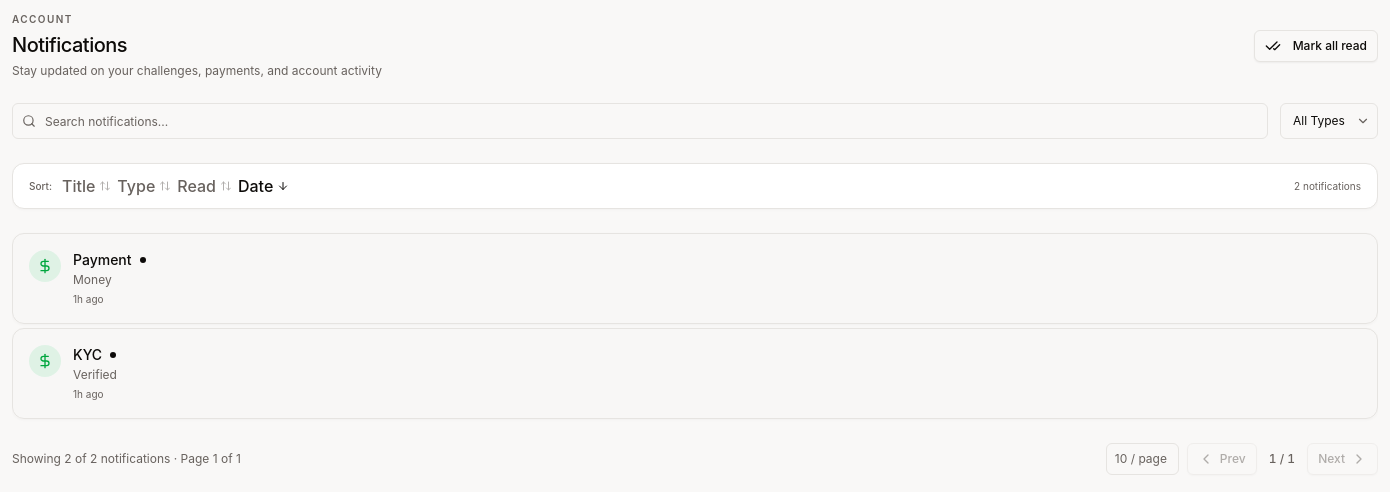
it: Notifications Page › Search › shows all when search is cleared
Type "payment" into the field with placeholder "Search notifications..." at (640, 121), box [12,103,1268,139]
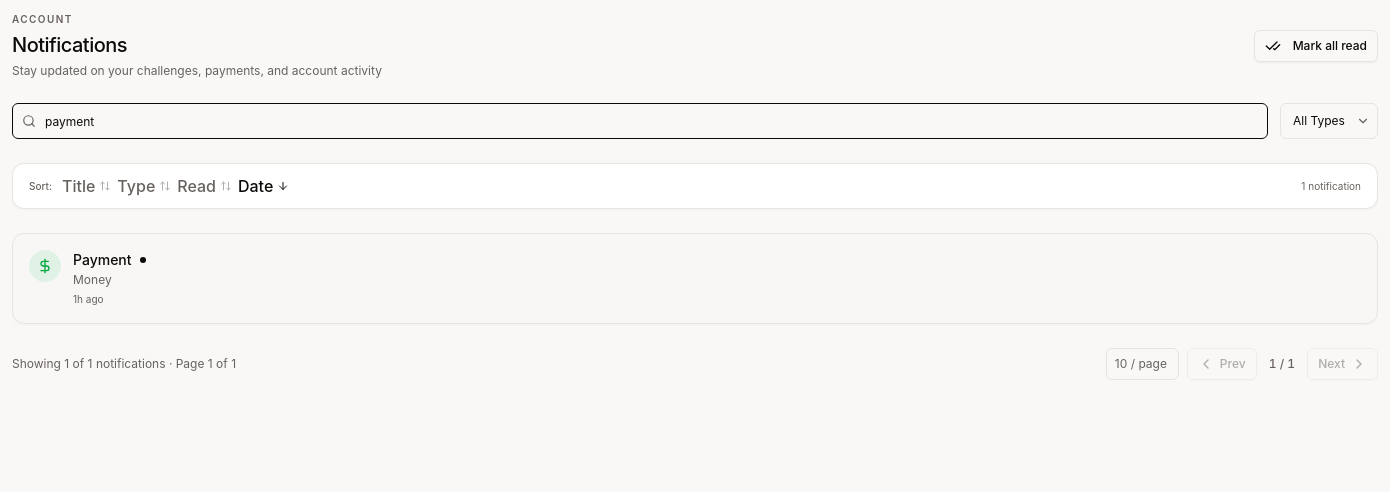
Expected: the text "KYC" is gone
Clear the field with placeholder "Search notifications..." at (640, 121), box [12,103,1268,139]
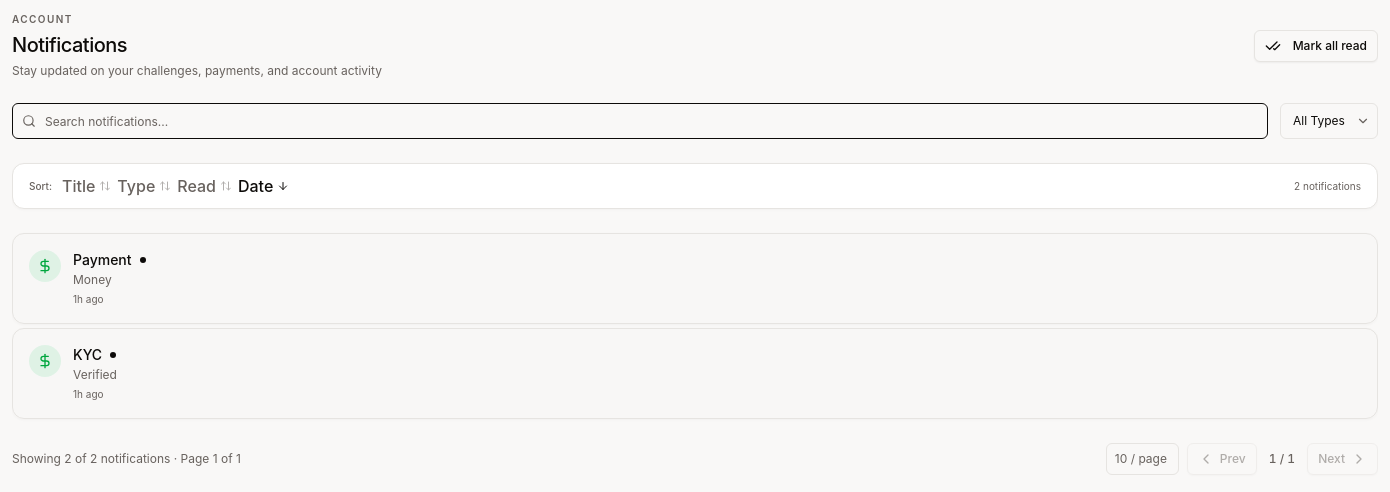
Expected: the text "KYC" is shown, [73,345,102,365]
